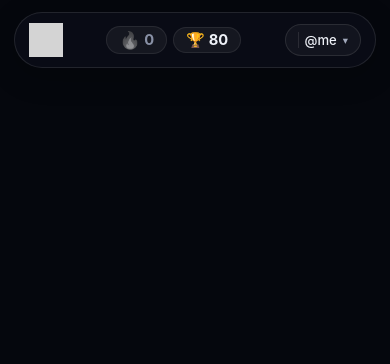
Scenario: Header standings badge › shows your points, and the dropdown has your rank, who is ahead and the top of the board
The width and height of the screenshot is (390, 364).
Click the button with class "header-standings".
click(207, 40)  # box [173, 27, 241, 53]
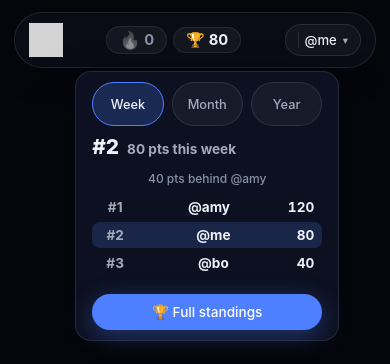
Now the element with class "standings-pop" shows "#2", box [92, 134, 119, 159]
Now the element with class "standings-pop" shows "40 pts behind @amy", box [92, 82, 322, 330]
Click the button "Month".
click(207, 104)  # box [172, 82, 243, 126]
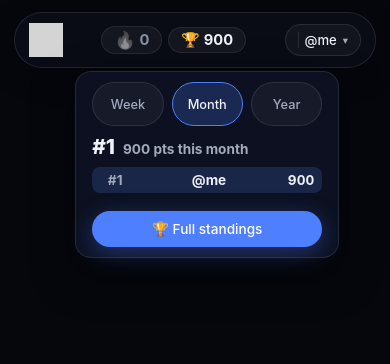
Now the button with class "header-standings" shows "900", box [168, 27, 246, 53]
